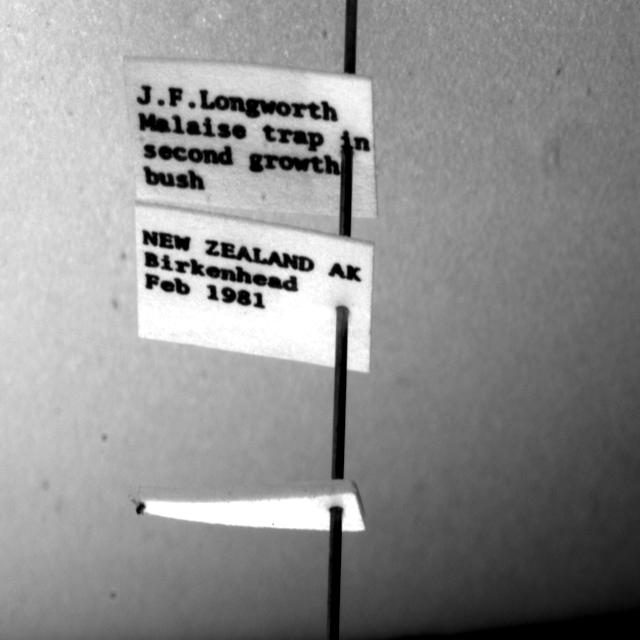typed_label: (124, 56, 378, 218), (135, 202, 374, 373)
